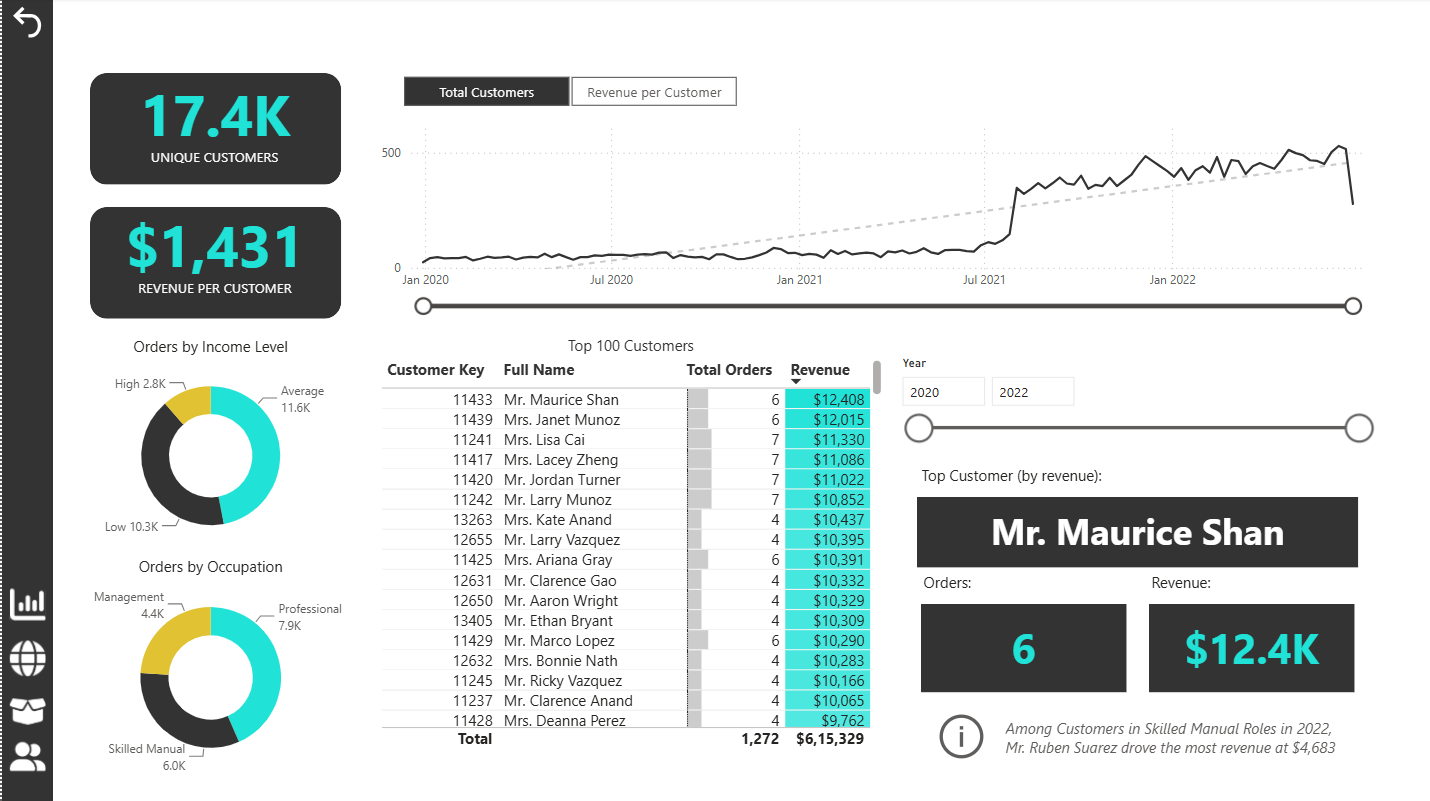

This screenshot's page, from the dashboard's own definition file:
{"tool":"powerbi","page":{"name":"Customer Detail","canvas":[1280,720],"ordinal":3},"visuals":[{"type":"group","id":"g1","title":"Customer KPIs","box":[62.9,34.9,256.4,267.4],"z":0},{"type":"card","fields":{"Values":["Measure Table.Total Customers"]},"box":[62.9,34.9,256,150],"z":0,"group":"g3"},{"type":"shape","box":[78.9,66.8,225,100],"z":0,"group":"g2"},{"type":"actionButton","box":[0,523,45.7,40.3],"z":0,"group":"g5"},{"type":"shape","title":"Left Nav Background","box":[0,0,45.7,720],"z":1000},{"type":"card","fields":{"Values":["Measure Table.Average Revenue per Customer"]},"box":[62.9,152.6,256,150],"z":1000,"group":"g3"},{"type":"shape","box":[78.9,186.5,225,100],"z":1000,"group":"g2"},{"type":"actionButton","box":[0,571.1,45.7,40.3],"z":1000,"group":"g5"},{"type":"lineChart","title":"Customers Trending","fields":{"Category":["Calendar Lookup.Date Hierarchy.Start of Year","Calendar Lookup.Date Hierarchy.Start of Month","Calendar Lookup.Date Hierarchy.Start of Week","Calendar Lookup.Date Hierarchy.Date"],"Y":["Measure Table.Total Customers"]},"box":[334,103.9,901.8,182.7],"z":2000},{"type":"actionButton","box":[0,619.1,45.7,40.3],"z":2000,"group":"g5"},{"type":"group","id":"g2","title":"KPI Background","box":[78.9,66.8,225,219.7],"z":2500,"group":"g1"},{"type":"group","id":"g3","title":"KPI Values","box":[62.9,34.9,256.4,267.4],"z":3000,"group":"g1"},{"type":"donutChart","title":"Orders by Income Level","fields":{"Category":["Customer Lookup.Income Level"],"Y":["Measure Table.Total Orders"]},"box":[62.9,302.3,248.4,197.5],"z":3000},{"type":"actionButton","box":[0,659.1,45.7,40.3],"z":3000,"group":"g5"},{"type":"donutChart","title":"Orders by Occupation","fields":{"Category":["Customer Lookup.Occupation"],"Y":["Measure Table.Total Orders"]},"box":[62.9,499.8,248.4,200.5],"z":4000},{"type":"tableEx","title":"Top 100 Customers","fields":{"Values":["Customer Lookup.CustomerKey","Customer Lookup.Full Name","Measure Table.Total Orders","Measure Table.Total Revenue"]},"box":[334,301.8,458.5,374.3],"z":5000},{"type":"group","id":"g4","title":"Group 1","box":[818.5,413.7,395.8,207.8],"z":6000},{"type":"card","fields":{"Values":["Measure Table.Full Name (Customer Detail)"]},"box":[819,446.5,395.1,62.9],"z":6000,"group":"g4"},{"type":"slicer","fields":{"Values":["Calendar Lookup.Year"]},"box":[793.7,315.2,443.8,99.1],"z":7000},{"type":"textbox","box":[818.5,413.7,217.6,33.1],"z":7000,"group":"g4"},{"type":"card","fields":{"Values":["Measure Table.Total Orders (Customer Detail)"]},"box":[823,542.3,183.6,78.8],"z":8000,"group":"g4"},{"type":"actionButton","box":[834,636,381,51],"z":8000},{"type":"actionButton","box":[0,2.7,45.7,37.6],"z":9000},{"type":"textbox","box":[820,509.4,186.6,32.9],"z":9000,"group":"g4"},{"type":"group","id":"g5","title":"Navigation Buttons","box":[0,523,45.7,176.4],"z":10000},{"type":"card","fields":{"Values":["Measure Table.Total Revenue (Customer Detail)"]},"box":[1027.5,542.3,183.6,78.8],"z":10000,"group":"g4"},{"type":"textbox","box":[1024.5,509.4,186.6,32.9],"z":11000,"group":"g4"},{"type":"slicer","fields":{"Values":["Customer Metric Selection.Customer Metric Selection"]},"box":[334,63.6,348.4,40.3],"z":12000}]}

Visuals, with their boxes on the page's 1280x720 design canvas (x1, y1, x2, y2). These are canvas units, not pixel positions in the 1430x801 screenshot, which may show the page scaled, cropped or inside an application window:
"Customer KPIs" group: detection(63, 35, 319, 302)
card - Measure Table.Total Customers: detection(63, 35, 319, 185)
shape: detection(79, 67, 304, 167)
actionButton: detection(0, 523, 46, 563)
"Left Nav Background" shape: detection(0, 0, 46, 720)
card - Measure Table.Average Revenue per Customer: detection(63, 153, 319, 303)
shape: detection(79, 186, 304, 286)
actionButton: detection(0, 571, 46, 611)
"Customers Trending" lineChart: detection(334, 104, 1236, 287)
actionButton: detection(0, 619, 46, 659)
"KPI Background" group: detection(79, 67, 304, 286)
"KPI Values" group: detection(63, 35, 319, 302)
"Orders by Income Level" donutChart: detection(63, 302, 311, 500)
actionButton: detection(0, 659, 46, 699)
"Orders by Occupation" donutChart: detection(63, 500, 311, 700)
"Top 100 Customers" tableEx: detection(334, 302, 792, 676)
"Group 1" group: detection(818, 414, 1214, 622)
card - Measure Table.Full Name (Customer Detail): detection(819, 446, 1214, 509)
slicer - Calendar Lookup.Year: detection(794, 315, 1238, 414)
textbox: detection(818, 414, 1036, 447)
card - Measure Table.Total Orders (Customer Detail): detection(823, 542, 1007, 621)
actionButton: detection(834, 636, 1215, 687)
actionButton: detection(0, 3, 46, 40)
textbox: detection(820, 509, 1007, 542)
"Navigation Buttons" group: detection(0, 523, 46, 699)
card - Measure Table.Total Revenue (Customer Detail): detection(1028, 542, 1211, 621)
textbox: detection(1024, 509, 1211, 542)
slicer - Customer Metric Selection.Customer Metric Selection: detection(334, 64, 682, 104)
